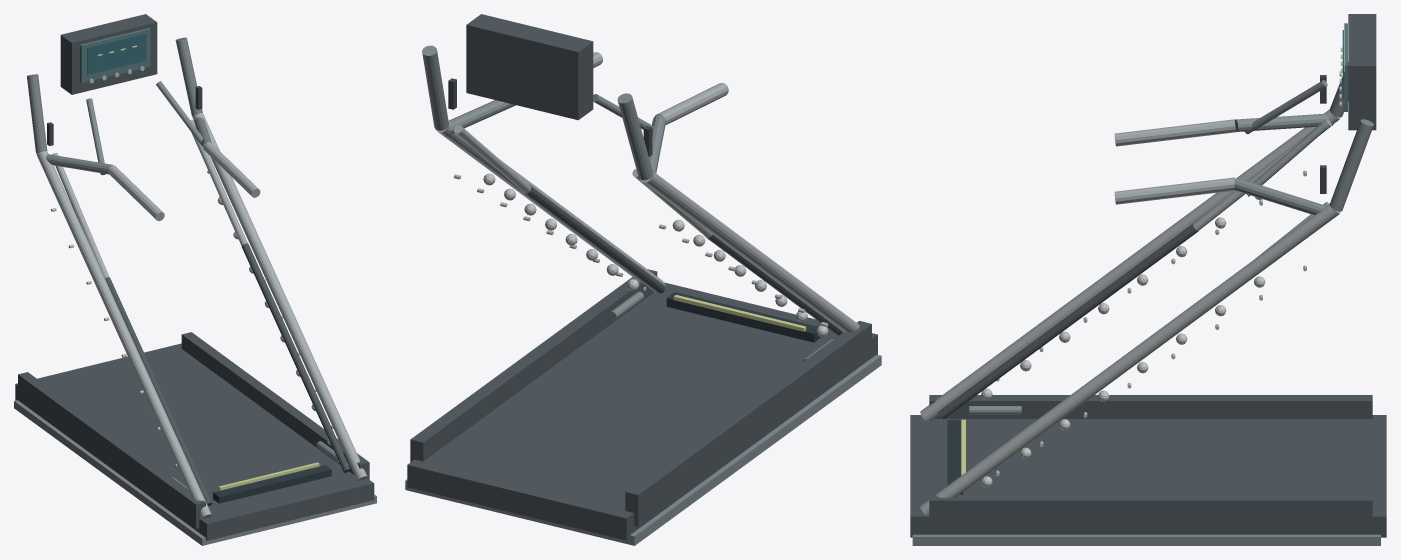
File: stairmaster-frame.glb
3 views of the same model, side by side, from view 1: azimuth 30°, elevation 25°; view 2: azimuth 150°, elevation 25°; view 3: azimuth 270°, elevation 25° (orthographic). The views are drawn at different scales.
Visible parts, largest first — view 1: chassis_base, low_chassis_rail_-1, outer_handrail_-1, outer_handrail_1, low_chassis_rail_1, console_housing, floor_footprint, exposed_frame_front_1, console_screen, front_foot_guard, exposed_frame_front_-1, console_bezel (+10 smaller); view 2: chassis_base, low_chassis_rail_-1, console_housing, low_chassis_rail_1, floor_footprint, outer_handrail_-1, front_foot_guard, outer_handrail_1, exposed_frame_front_1, upper_handrail_-1, upper_handrail_1, exposed_frame_front_-1 (+5 smaller); view 3: chassis_base, low_chassis_rail_1, low_chassis_rail_-1, outer_handrail_1, floor_footprint, outer_handrail_-1, console_housing, exposed_frame_front_-1, inner_handle_-1, inner_handle_1, upper_handrail_1, inner_handle_cross_1 (+5 smaller).
Boxes of the visible parts, bbox=[...] form: chassis_base: bbox=[15, 343, 374, 540]; low_chassis_rail_-1: bbox=[18, 372, 205, 528]; outer_handrail_-1: bbox=[36, 151, 211, 518]; outer_handrail_1: bbox=[192, 112, 367, 480]; low_chassis_rail_1: bbox=[181, 332, 369, 479]; console_housing: bbox=[60, 14, 157, 94]; floor_footprint: bbox=[14, 400, 376, 545]; exposed_frame_front_1: bbox=[241, 243, 350, 472]; console_screen: bbox=[87, 33, 146, 74]; front_foot_guard: bbox=[213, 465, 331, 503]; exposed_frame_front_-1: bbox=[105, 277, 212, 506]; console_bezel: bbox=[80, 28, 150, 83]; chassis_base: bbox=[407, 282, 877, 540]; low_chassis_rail_-1: bbox=[625, 321, 871, 526]; console_housing: bbox=[466, 14, 593, 120]; low_chassis_rail_1: bbox=[410, 269, 657, 462]; floor_footprint: bbox=[405, 354, 881, 545]; outer_handrail_-1: bbox=[640, 171, 859, 332]; front_foot_guard: bbox=[666, 292, 821, 342]; outer_handrail_1: bbox=[435, 121, 665, 292]; exposed_frame_front_1: bbox=[524, 185, 665, 293]; upper_handrail_-1: bbox=[617, 93, 653, 180]; upper_handrail_1: bbox=[422, 45, 448, 130]; exposed_frame_front_-1: bbox=[705, 234, 843, 335]; chassis_base: bbox=[910, 415, 1386, 537]; low_chassis_rail_1: bbox=[929, 494, 1372, 530]; low_chassis_rail_-1: bbox=[929, 395, 1372, 418]; outer_handrail_1: bbox=[920, 204, 1340, 515]; floor_footprint: bbox=[912, 534, 1380, 545]; outer_handrail_-1: bbox=[920, 109, 1340, 421]; console_housing: bbox=[1348, 14, 1376, 130]; exposed_frame_front_-1: bbox=[938, 224, 1198, 419]; inner_handle_-1: bbox=[1114, 119, 1236, 146]; inner_handle_1: bbox=[1114, 177, 1235, 204]; upper_handrail_1: bbox=[1329, 119, 1373, 211]; inner_handle_cross_1: bbox=[1234, 178, 1326, 214].
Size of the model in its own units: 3.03 by 6.03 by 5.75.
